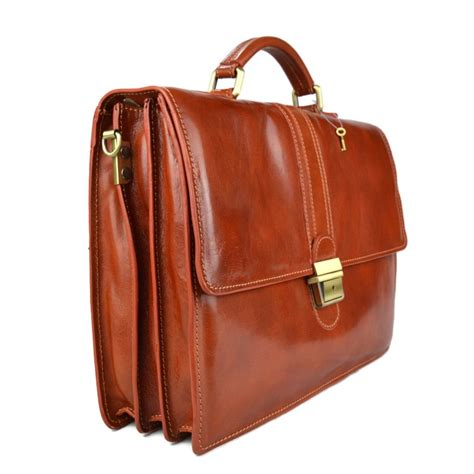cuero: (87, 36, 409, 456)
